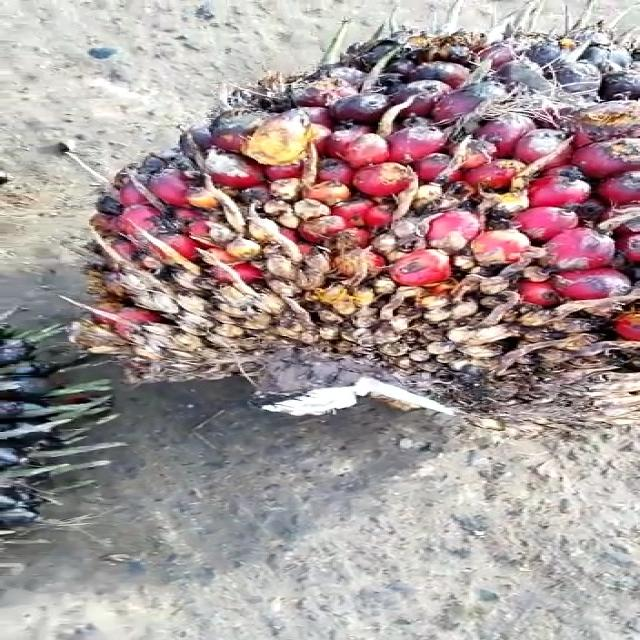palm oil: (7, 0, 638, 432)
